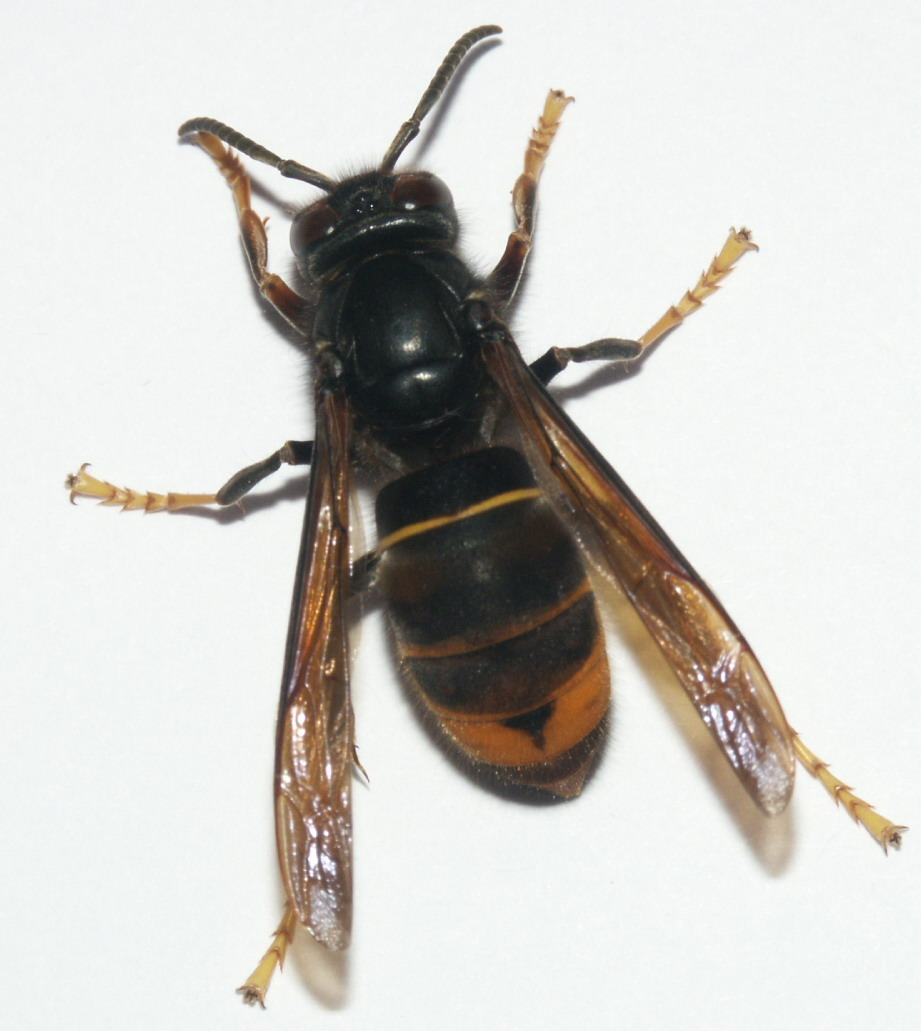hornet: (104, 82, 825, 989)
